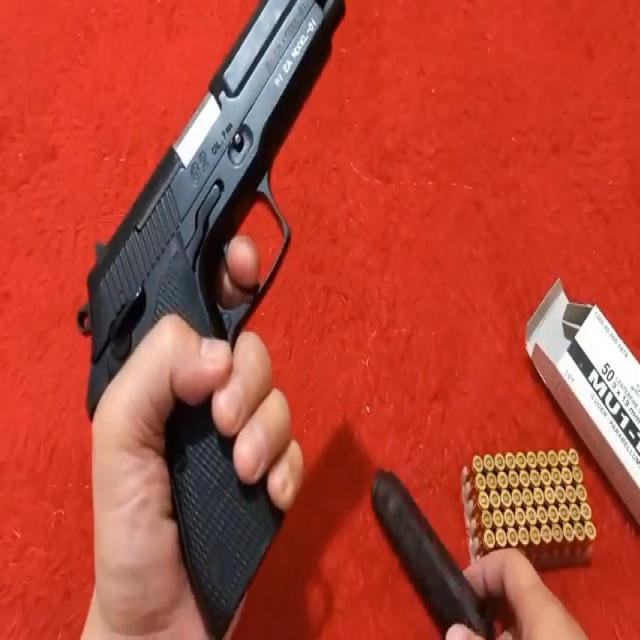handgun: (80, 0, 356, 640)
